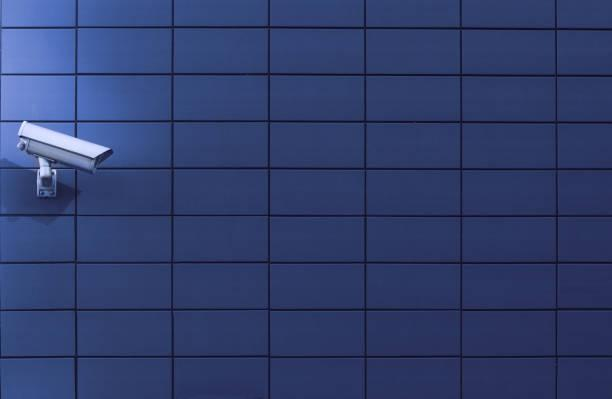camera: (7, 99, 120, 229)
